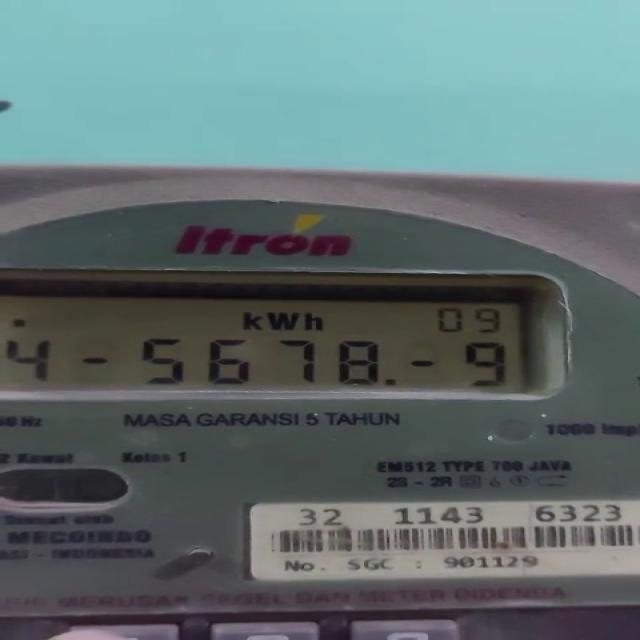LCD: (0, 274, 574, 404)
